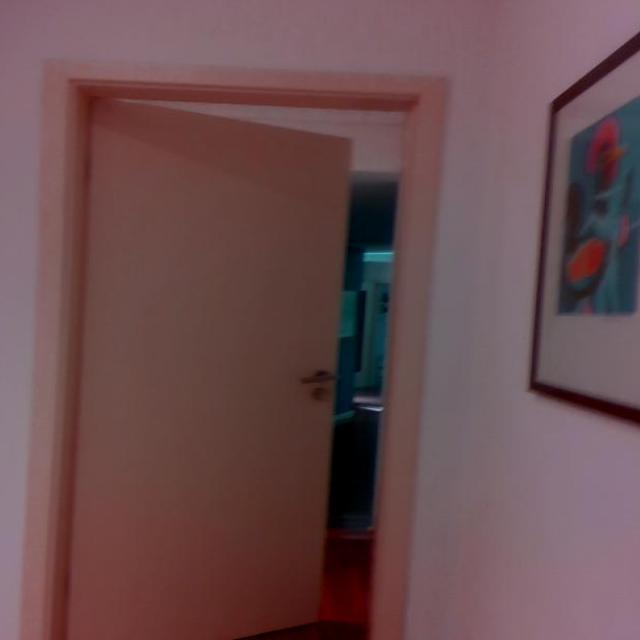door: (61, 95, 352, 639)
